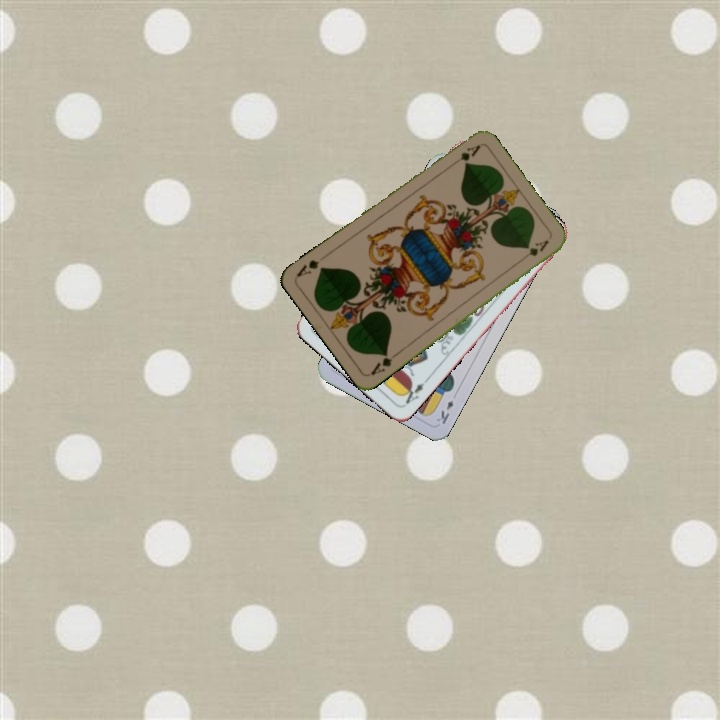EA: (398, 379, 427, 408)
EK: (432, 396, 456, 427)
GA: (367, 348, 401, 378), (447, 141, 483, 169)
